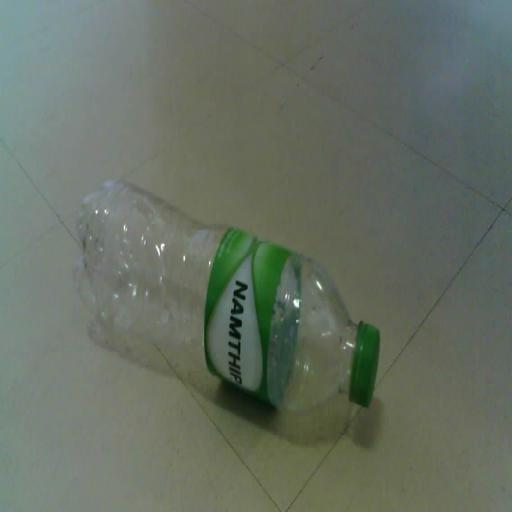bottle: (56, 161, 402, 434)
